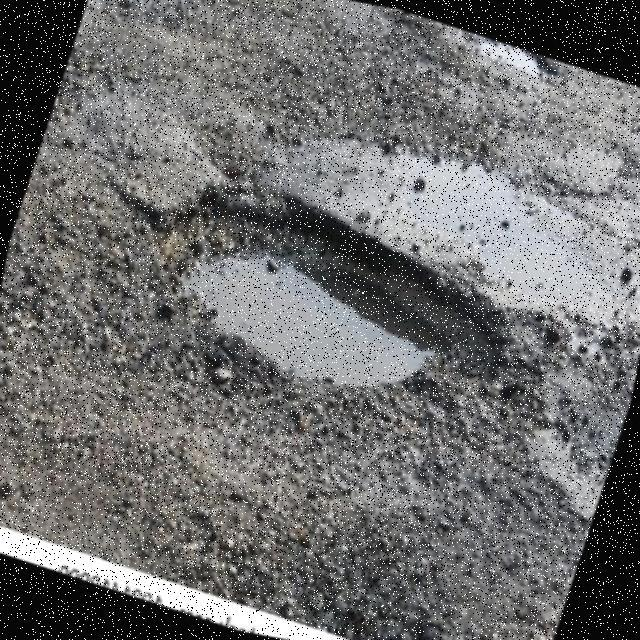Pothole: (132, 185, 508, 387)
